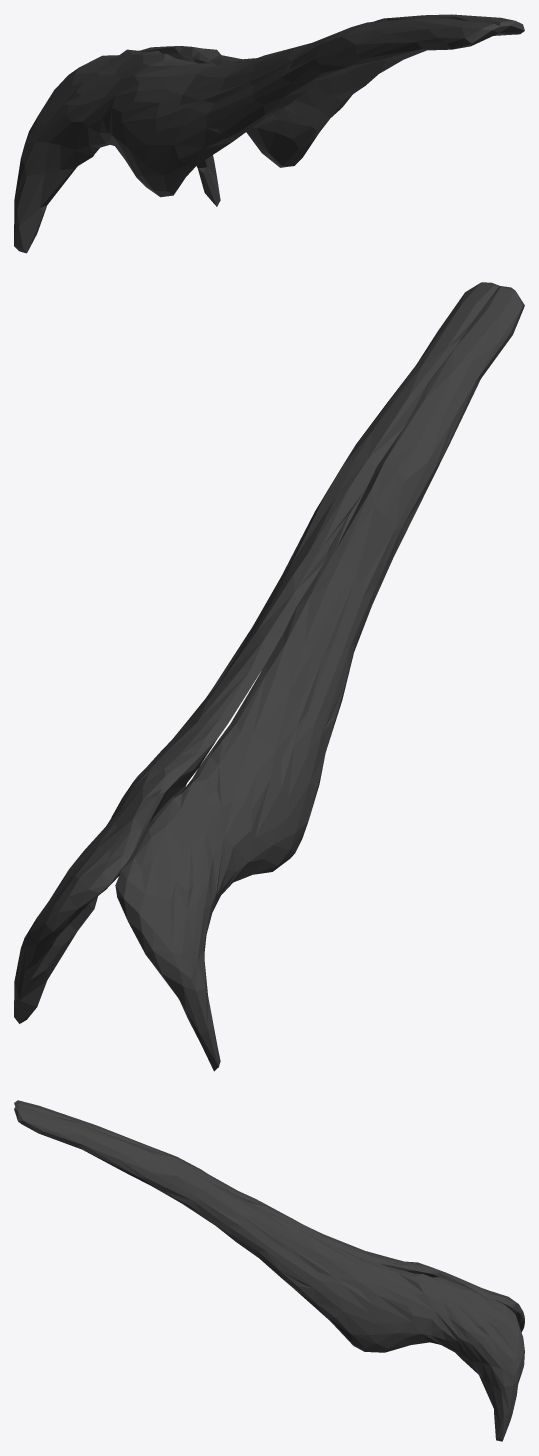
Rendered from m_rhomboideus.glb.
3 renders of one model, top to bottom at view 1: azimuth 30°, elevation 25°; view 2: azimuth 150°, elevation 25°; view 3: azimuth 270°, elevation 25°, orthographic. The views are drawn at different scales.
Parts seen in each view (by area): view 1: m_rhomboideus; view 2: m_rhomboideus; view 3: m_rhomboideus.
Part boxes in pixels (bbox=[...]): m_rhomboideus: bbox=[14, 14, 524, 253]; m_rhomboideus: bbox=[14, 282, 524, 1071]; m_rhomboideus: bbox=[14, 1100, 524, 1441].
Bounding box in the file's own units: 0.00316 × 0.00712 × 0.0107.
1 material, 1 textured.
